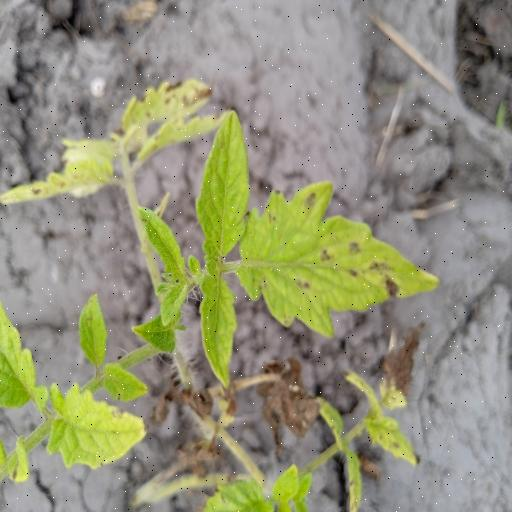Tomato_Brown_Spots: (200, 104, 442, 389), (40, 382, 149, 473)
